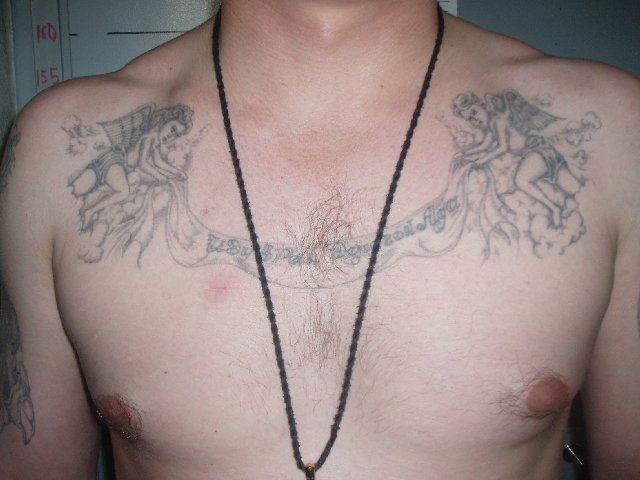tatu1_angel: (431, 83, 617, 252), (67, 99, 205, 261)
tatu3_bukva: (382, 187, 458, 260), (261, 240, 371, 279), (208, 228, 252, 274)
